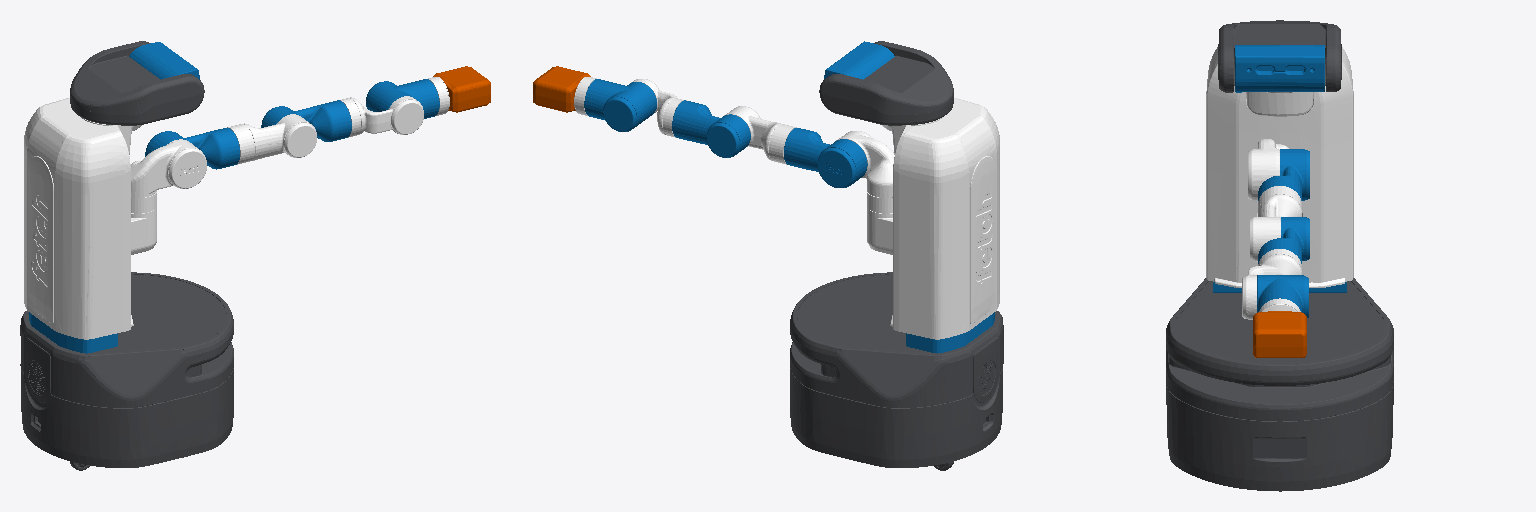
--- Render facts (derived) ---
3 views of the same robot in one strip: view 1: azimuth 30°, elevation 25°; view 2: azimuth 150°, elevation 25°; view 3: azimuth 270°, elevation 25° (orthographic).
Model fetch with 26 links and 25 joints (6 revolute, 5 continuous, 4 prismatic, 10 fixed), rooted at base_link, posed every joint at zero.
Links seen in each view (by area): view 1: base_link, torso_lift_link, head_pan_link, shoulder_pan_link, upperarm_roll_link, forearm_roll_link, elbow_flex_link, shoulder_lift_link, gripper_link, wrist_flex_link, head_tilt_link, torso_fixed_link; view 2: base_link, torso_lift_link, head_pan_link, shoulder_lift_link, elbow_flex_link, wrist_flex_link, shoulder_pan_link, gripper_link, upperarm_roll_link, head_tilt_link, torso_fixed_link, forearm_roll_link; view 3: base_link, torso_lift_link, head_pan_link, head_tilt_link, gripper_link, upperarm_roll_link, forearm_roll_link, shoulder_lift_link, wrist_flex_link, shoulder_pan_link, elbow_flex_link.
Link boxes in pixels (x1,y1,x2,y2): base_link: (20,272,233,470); torso_lift_link: (24,98,156,339); head_pan_link: (70,41,204,125); shoulder_pan_link: (131,139,206,213); upperarm_roll_link: (227,114,316,164); forearm_roll_link: (340,96,423,137); elbow_flex_link: (261,100,351,141); shoulder_lift_link: (145,128,239,169); gripper_link: (433,66,490,112); wrist_flex_link: (366,79,439,118); head_tilt_link: (129,42,199,79); torso_fixed_link: (29,312,117,353); base_link: (790,272,1003,470); torso_lift_link: (867,98,999,339); head_pan_link: (819,41,953,125); shoulder_lift_link: (784,128,867,187); elbow_flex_link: (672,100,750,157); wrist_flex_link: (584,79,656,131); shoulder_pan_link: (836,131,894,213); gripper_link: (533,66,590,112); upperarm_roll_link: (724,106,796,164); head_tilt_link: (824,41,894,79); torso_fixed_link: (906,312,994,353); forearm_roll_link: (631,79,686,137); base_link: (1166,278,1393,491); torso_lift_link: (1206,47,1353,287); head_pan_link: (1218,20,1341,92); head_tilt_link: (1235,45,1324,92); gripper_link: (1253,311,1306,357); upperarm_roll_link: (1250,186,1301,261); forearm_roll_link: (1242,249,1301,319); shoulder_lift_link: (1258,149,1309,200); wrist_flex_link: (1257,275,1308,317); shoulder_pan_link: (1248,139,1288,200); elbow_flex_link: (1258,217,1309,263).
Size in the robot's own frame: 1.38 by 0.5283 by 1.09 metres.
13 mesh visuals loaded from 20 distinct referenced files (13 OBJ); not drawn: 8 (reference not matched to a file when rendering).

The robot description file, URDF, robot "fetch":
<robot name="fetch">
    <link name="base_link">
        <inertial>
            <origin rpy="0 0 0" xyz="-0.0036 0.0 0.0014"/>
            <mass value="70.1294"/>
            <inertia ixx="1.225" ixy="0.0099" ixz="0.0062" iyy="1.2853" iyz="-0.0034" izz="0.987"/>
        </inertial>
        <visual>
            <origin rpy="0 0 0" xyz="0 0 0"/>
            <geometry>
                <mesh filename="package://fetch_description/meshes/base_link.obj"/>
            </geometry>
            <material name="">
                <color rgba="0.356 0.361 0.376 1"/>
            </material>
        </visual>
        <collision>
            <origin rpy="0 0 0" xyz="0 0 0"/>
            <geometry>
                <mesh filename="package://fetch_description/meshes/base_link_collision.STL"/>
            </geometry>
        </collision>
    </link>
    <link name="r_wheel_link">
        <inertial>
            <origin rpy="0 0 0" xyz="0 0 0"/>
            <mass value="4.3542"/>
            <inertia ixx="0.0045" ixy="0" ixz="0" iyy="0.005" iyz="0" izz="0.0045"/>
        </inertial>
        <visual>
            <origin rpy="0 0 0" xyz="0 0 0"/>
            <geometry>
                <mesh filename="package://fetch_description/meshes/r_wheel_link.STL"/>
            </geometry>
            <material name="">
                <color rgba="0.086 0.506 0.767 1"/>
            </material>
        </visual>
        <collision>
            <origin rpy="0 0 0" xyz="0 0 0"/>
            <geometry>
                <mesh filename="package://fetch_description/meshes/r_wheel_link_collision.STL"/>
            </geometry>
        </collision>
    </link>
    <joint name="r_wheel_joint" type="continuous">
        <origin rpy="-6.123E-17 0 0" xyz="0.0012914 -0.18738 0.055325"/>
        <parent link="base_link"/>
        <child link="r_wheel_link"/>
        <axis xyz="0 1 0"/>
        <limit effort="8.85" velocity="17.4"/>
    </joint>
    <link name="l_wheel_link">
        <inertial>
            <origin rpy="0 0 0" xyz="0 0 0"/>
            <mass value="4.3542"/>
            <inertia ixx="0.0045" ixy="0" ixz="0" iyy="0.005" iyz="0" izz="0.0045"/>
        </inertial>
        <visual>
            <origin rpy="0 0 0" xyz="0 0 0"/>
            <geometry>
                <mesh filename="package://fetch_description/meshes/l_wheel_link.STL"/>
            </geometry>
            <material name="">
                <color rgba="0.086 0.506 0.767 1"/>
            </material>
        </visual>
        <collision>
            <origin rpy="0 0 0" xyz="0 0 0"/>
            <geometry>
                <mesh filename="package://fetch_description/meshes/l_wheel_link_collision.STL"/>
            </geometry>
        </collision>
    </link>
    <joint name="l_wheel_joint" type="continuous">
        <origin rpy="-6.123E-17 0 0" xyz="0.0012914 0.18738 0.055325"/>
        <parent link="base_link"/>
        <child link="l_wheel_link"/>
        <axis xyz="0 1 0"/>
        <limit effort="8.85" velocity="17.4"/>
    </joint>
    <link name="torso_lift_link">
        <inertial>
            <origin rpy="0 0 0" xyz="-0.0013 -0.0009 0.2935"/>
            <mass value="10.7796"/>
            <inertia ixx="0.3354" ixy="0.0" ixz="-0.0162" iyy="0.3354" iyz="-0.0006" izz="0.0954"/>
        </inertial>
        <visual>
            <origin rpy="0 0 0" xyz="0 0 0"/>
            <geometry>
                <mesh filename="package://fetch_description/meshes/torso_lift_link.obj"/>
            </geometry>
            <material name="">
                <color rgba="1 1 1 1"/>
            </material>
        </visual>
        <collision>
            <origin rpy="0 0 0" xyz="0 0 0"/>
            <geometry>
                <mesh filename="package://fetch_description/meshes/torso_lift_link_collision.STL"/>
            </geometry>
        </collision>
    </link>
    <joint name="torso_lift_joint" type="prismatic">
        <origin rpy="-6.123E-17 0 0" xyz="-0.086875 0 0.37743"/>
        <parent link="base_link"/>
        <child link="torso_lift_link"/>
        <axis xyz="0 0 1"/>
        <limit effort="450.0" lower="0" upper="0.38615" velocity="0.1"/>
        <dynamics friction="1000" damping="100.0"/>
    </joint>
    <link name="head_pan_link">
        <inertial>
            <origin rpy="0 0 0" xyz="0.0321 0.0161 0.0390"/>
            <mass value="2.2556"/>
            <inertia ixx="0.0129" ixy="0.0002" ixz="0.0007" iyy="0.0095" iyz="-0.0" izz="0.0184"/>
        </inertial>
        <visual>
            <origin rpy="0 0 0" xyz="0 0 0"/>
            <geometry>
                <mesh filename="package://fetch_description/meshes/head_pan_link.obj"/>
            </geometry>
            <material name="">
                <color rgba="0.356 0.361 0.376 1"/>
            </material>
        </visual>
        <collision>
            <origin rpy="0 0 0" xyz="0 0 0"/>
            <geometry>
                <mesh filename="package://fetch_description/meshes/head_pan_link_collision.STL"/>
            </geometry>
        </collision>
    </link>
    <joint name="head_pan_joint" type="revolute">
        <origin rpy="0 0 0" xyz="0.053125 0 0.603001417713939"/>
        <parent link="torso_lift_link"/>
        <child link="head_pan_link"/>
        <axis xyz="0 0 1"/>
        <limit effort="0.32" lower="-1.57" upper="1.57" velocity="1.57"/>
    </joint>
    <link name="head_tilt_link">
        <inertial>
            <origin rpy="0 0 0" xyz="0.0081 0.0025 0.0113"/>
            <mass value="0.9087"/>
            <inertia ixx="0.0061" ixy="-0.0" ixz="0.0002" iyy="0.0014" iyz="-0.0001" izz="0.0061"/>
        </inertial>
        <visual>
            <origin rpy="0 0 0" xyz="0 0 0"/>
            <geometry>
                <mesh filename="package://fetch_description/meshes/head_tilt_link.obj"/>
            </geometry>
            <material name="">
                <color rgba="0.086 0.506 0.767 1"/>
            </material>
        </visual>
        <collision>
            <origin rpy="0 0 0" xyz="0 0 0"/>
            <geometry>
                <mesh filename="package://fetch_description/meshes/head_tilt_link_collision.STL"/>
            </geometry>
        </collision>
    </link>
    <joint name="head_tilt_joint" type="revolute">
        <origin rpy="0 0 0" xyz="0.14253 0 0.057999"/>
        <parent link="head_pan_link"/>
        <child link="head_tilt_link"/>
        <axis xyz="0 1 0"/>
        <limit effort="0.68" lower="-0.76" upper="1.45" velocity="1.57"/>
    </joint>
    <link name="shoulder_pan_link">
        <inertial>
            <origin rpy="0 0 0" xyz="0.0927 -0.0056 0.0564"/>
            <mass value="2.5587"/>
            <inertia ixx="0.0043" ixy="-0.0001" ixz="0.001" iyy="0.0087" iyz="-0.0001" izz="0.0087"/>
        </inertial>
        <visual>
            <origin rpy="0 0 0" xyz="0 0 0"/>
            <geometry>
                <mesh filename="package://fetch_description/meshes/shoulder_pan_link.obj"/>
            </geometry>
            <material name="">
                <color rgba="1 1 1 1"/>
            </material>
        </visual>
        <collision>
            <origin rpy="0 0 0" xyz="0 0 0"/>
            <geometry>
                <mesh filename="package://fetch_description/meshes/shoulder_pan_link_collision.STL"/>
            </geometry>
        </collision>
    </link>
    <joint name="shoulder_pan_joint" type="revolute">
        <origin rpy="0 0 0" xyz="0.119525 0 0.34858"/>
        <parent link="torso_lift_link"/>
        <child link="shoulder_pan_link"/>
        <axis xyz="0 0 1"/>
        <dynamics friction="1000" damping="1.0"/>
        <limit effort="33.82" lower="-1.6056" upper="1.6056" velocity="1.256"/>
    </joint>
    <link name="shoulder_lift_link">
        <inertial>
            <origin rpy="0 0 0" xyz="0.1432 0.0072 -0.0001"/>
            <mass value="2.6615"/>
            <inertia ixx="0.0028" ixy="-0.0021" ixz="-0.0" iyy="0.0111" iyz="-0.0" izz="0.0112"/>
        </inertial>
        <visual>
            <origin rpy="0 0 0" xyz="0 0 0"/>
            <geometry>
                <mesh filename="package://fetch_description/meshes/shoulder_lift_link.obj"/>
            </geometry>
            <material name="">
                <color rgba="0.086 0.506 0.767 1"/>
            </material>
        </visual>
        <collision>
            <origin rpy="0 0 0" xyz="0 0 0"/>
            <geometry>
                <mesh filename="package://fetch_description/meshes/shoulder_lift_link_collision.STL"/>
            </geometry>
        </collision>
    </link>
    <joint name="shoulder_lift_joint" type="revolute">
        <origin rpy="0 0 0" xyz="0.117 0 0.0599999999999999"/>
        <parent link="shoulder_pan_link"/>
        <child link="shoulder_lift_link"/>
        <axis xyz="0 1 0"/>
        <dynamics friction="1000" damping="1.0"/>
        <limit effort="131.76" lower="-1.221" upper="1.518" velocity="1.454"/>
    </joint>
    <link name="upperarm_roll_link">
        <inertial>
            <origin rpy="0 0 0" xyz="0.1165 0.0014 0.0000"/>
            <mass value="2.3311"/>
            <inertia ixx="0.0019" ixy="-0.0001" ixz="0.0" iyy="0.0045" iyz="0.0" izz="0.0047"/>
        </inertial>
        <visual>
            <origin rpy="0 0 0" xyz="0 0 0"/>
            <geometry>
                <mesh filename="package://fetch_description/meshes/upperarm_roll_link.obj"/>
            </geometry>
            <material name="">
                <color rgba="1 1 1 1"/>
            </material>
        </visual>
        <collision>
            <origin rpy="0 0 0" xyz="0 0 0"/>
            <geometry>
                <mesh filename="package://fetch_description/meshes/upperarm_roll_link_collision.STL"/>
            </geometry>
        </collision>
    </link>
    <joint name="upperarm_roll_joint" type="continuous">
        <origin rpy="0 0 0" xyz="0.219 0 0"/>
        <parent link="shoulder_lift_link"/>
        <child link="upperarm_roll_link"/>
        <axis xyz="1 0 0"/>
        <dynamics friction="1000" damping="5.0"/>
        <limit effort="76.94" velocity="1.571"/>
    </joint>
    <link name="elbow_flex_link">
        <inertial>
            <origin rpy="0 0 0" xyz="0.1279 0.0073 0.0000"/>
            <mass value="2.1299"/>
            <inertia ixx="0.0024" ixy="-0.0016" ixz="0.0" iyy="0.0082" iyz="-0.0" izz="0.0084"/>
        </inertial>
        <visual>
            <origin rpy="0 0 0" xyz="0 0 0"/>
            <geometry>
                <mesh filename="package://fetch_description/meshes/elbow_flex_link.obj"/>
            </geometry>
            <material name="">
                <color rgba="0.086 0.506 0.767 1"/>
            </material>
        </visual>
        <collision>
            <origin rpy="0 0 0" xyz="0 0 0"/>
            <geometry>
                <mesh filename="package://fetch_description/meshes/elbow_flex_link_collision.STL"/>
            </geometry>
        </collision>
    </link>
    <joint name="elbow_flex_joint" type="revolute">
        <origin rpy="0 0 0" xyz="0.133 0 0"/>
        <parent link="upperarm_roll_link"/>
        <child link="elbow_flex_link"/>
        <axis xyz="0 1 0"/>
        <dynamics friction="1000" damping="1.0"/>
        <limit effort="66.18" lower="-2.251" upper="2.251" velocity="1.521"/>
    </joint>
    <link name="forearm_roll_link">
        <inertial>
            <origin rpy="0 0 0" xyz="0.1097 -0.0266 0.0000"/>
            <mass value="1.6563"/>
            <inertia ixx="0.0016" ixy="-0.0003" ixz="0.0" iyy="0.003" iyz="-0.0" izz="0.0035"/>
        </inertial>
        <visual>
            <origin rpy="0 0 0" xyz="0 0 0"/>
            <geometry>
                <mesh filename="package://fetch_description/meshes/forearm_roll_link.obj"/>
            </geometry>
            <material name="">
                <color rgba="1 1 1 1"/>
            </material>
        </visual>
        <collision>
            <origin rpy="0 0 0" xyz="0 0 0"/>
            <geometry>
                <mesh filename="package://fetch_description/meshes/forearm_roll_link_collision.STL"/>
            </geometry>
        </collision>
    </link>
    <joint name="forearm_roll_joint" type="continuous">
        <origin rpy="0 0 0" xyz="0.197 0 0"/>
        <parent link="elbow_flex_link"/>
        <child link="forearm_roll_link"/>
        <axis xyz="1 0 0"/>
        <dynamics friction="1000" damping="5.0"/>
        <limit effort="29.35" velocity="1.571"/>
    </joint>
    <link name="wrist_flex_link">
        <inertial>
            <origin rpy="0 0 0" xyz="0.0882 0.0009 -0.0001"/>
            <mass value="1.725"/>
            <inertia ixx="0.0018" ixy="-0.0001" ixz="-0.0" iyy="0.0042" iyz="0.0" izz="0.0042"/>
        </inertial>
        <visual>
            <origin rpy="0 0 0" xyz="0 0 0"/>
            <geometry>
                <mesh filename="package://fetch_description/meshes/wrist_flex_link.obj"/>
            </geometry>
            <material name="">
                <color rgba="0.086 0.506 0.767 1"/>
            </material>
        </visual>
        <collision>
            <origin rpy="0 0 0" xyz="0 0 0"/>
            <geometry>
                <mesh filename="package://fetch_description/meshes/wrist_flex_link_collision.STL"/>
            </geometry>
        </collision>
    </link>
    <joint name="wrist_flex_joint" type="revolute">
        <origin rpy="0 0 0" xyz="0.1245 0 0"/>
        <parent link="forearm_roll_link"/>
        <child link="wrist_flex_link"/>
        <axis xyz="0 1 0"/>
        <dynamics friction="1000" damping="1.0"/>
        <limit effort="25.7" lower="-2.16" upper="2.16" velocity="2.268"/>
    </joint>
    <link name="wrist_roll_link">
        <inertial>
            <origin rpy="0 0 0" xyz="0.0095 0.0004 -0.0002"/>
            <mass value="0.1354"/>
            <inertia ixx="0.0001" ixy="0.0" ixz="0.0" iyy="0.0001" iyz="0.0" izz="0.0001"/>
        </inertial>
        <visual>
            <origin rpy="0 0 0" xyz="0 0 0"/>
            <geometry>
                <mesh filename="package://fetch_description/meshes/wrist_roll_link.obj"/>
            </geometry>
            <material name="">
                <color rgba="1 1 1 1"/>
            </material>
        </visual>
        <collision>
            <origin rpy="0 0 0" xyz="0 0 0"/>
            <geometry>
                <mesh filename="package://fetch_description/meshes/wrist_roll_link_collision.STL"/>
            </geometry>
        </collision>
    </link>
    <joint name="wrist_roll_joint" type="continuous">
        <origin rpy="0 0 0" xyz="0.1385 0 0"/>
        <parent link="wrist_flex_link"/>
        <child link="wrist_roll_link"/>
        <axis xyz="1 0 0"/>
        <limit effort="7.36" velocity="2.268"/>
        <dynamics friction="1000" damping="5.0"/>
    </joint>
    <link name="gripper_link">
        <inertial>
            <origin rpy="0 0 0" xyz="-0.0900 -0.0001 -0.0017"/>
            <mass value="1.5175"/>
            <inertia ixx="0.0013" ixy="-0.0" ixz="0.0" iyy="0.0019" iyz="-0.0" izz="0.0024"/>
        </inertial>
        <visual>
            <origin rpy="0 0 0" xyz="0 0 0"/>
            <geometry>
                <mesh filename="package://fetch_description/meshes/gripper_link.obj"/>
            </geometry>
        </visual>
        <collision>
            <origin rpy="0 0 0" xyz="0 0 0"/>
            <geometry>
                <mesh filename="package://fetch_description/meshes/gripper_link.STL"/>
            </geometry>
        </collision>
    </link>
    <joint name="gripper_axis" type="fixed">
        <origin rpy="0 0 0" xyz="0.16645 0 0"/>
        <parent link="wrist_roll_link"/>
        <child link="gripper_link"/>
        <axis xyz="0 1 0"/>
    </joint>
    <link name="r_gripper_finger_link">
        <inertial>
            <origin rpy="0 0 0" xyz="-0.01 0 0"/>
            <mass value="0.0798"/>
            <inertia ixx="0.002" ixy="0" ixz="0" iyy="0" iyz="0" izz="0"/>
        </inertial>
        <visual>
            <origin rpy="0 0 0" xyz="0 0.101425 0"/>
            <geometry>
                <mesh filename="package://fetch_description/meshes/r_gripper_finger_link.STL"/>
            </geometry>
            <material name="">
                <color rgba="0.356 0.361 0.376 1"/>
            </material>
        </visual>
        <collision>
            <origin rpy="0 0 0" xyz="0 0.101425 0"/>
            <geometry>
                <mesh filename="package://fetch_description/meshes/r_gripper_finger_link.STL"/>
            </geometry>
        </collision>
    </link>
    <joint name="r_gripper_finger_joint" type="prismatic">
        <origin rpy="0 0 0" xyz="0 0.015425 0"/>
        <parent link="gripper_link"/>
        <child link="r_gripper_finger_link"/>
        <axis xyz="0 1 0"/>
        <limit effort="60" lower="0.0" upper="0.05" velocity="0.05"/>
        <dynamics friction="1000" damping="100.0"/>
    </joint>
    <link name="l_gripper_finger_link">
        <inertial>
            <origin rpy="0 0 0" xyz="-0.01 0 0"/>
            <mass value="0.0798"/>
            <inertia ixx="0.002" ixy="0" ixz="0" iyy="0" iyz="0" izz="0"/>
        </inertial>
        <visual>
            <origin rpy="0 0 0" xyz="0 -0.101425 0"/>
            <geometry>
                <mesh filename="package://fetch_description/meshes/l_gripper_finger_link.STL"/>
            </geometry>
            <material name="">
                <color rgba="0.356 0.361 0.376 1"/>
            </material>
        </visual>
        <collision>
            <origin rpy="0 0 0" xyz="0 -0.101425 0"/>
            <geometry>
                <mesh filename="package://fetch_description/meshes/l_gripper_finger_link.STL"/>
            </geometry>
        </collision>
    </link>
    <joint name="l_gripper_finger_joint" type="prismatic">
        <origin rpy="0 0 0" xyz="0 -0.015425 0"/>
        <parent link="gripper_link"/>
        <child link="l_gripper_finger_link"/>
        <axis xyz="0 -1 0"/>
        <limit effort="60" lower="0.0" upper="0.05" velocity="0.05"/>
        <dynamics friction="1000" damping="100.0"/>
    </joint>
    <link name="bellows_link">
        <inertial>
            <origin rpy="0 0 0" xyz="0.0191320000286228 -1.67219873481315E-16 -0.134861625443387"/>
            <mass value="0.169374038216602"/>
            <inertia ixx="0.00331159128762117" ixy="-8.9230964321455E-18" ixz="-5.38622201018293E-08"
                     iyy="0.00174447292786627" iyz="-8.06964979976371E-17" izz="0.00169417568121457"/>
        </inertial>
        <visual>
            <origin rpy="0 0 0" xyz="0 0 0"/>
            <geometry>
                <mesh filename="package://fetch_description/meshes/bellows_link.STL"/>
            </geometry>
            <material name="">
                <color rgba="0 0 0 1"/>
            </material>
        </visual>
        <collision>
            <origin rpy="0 0 0" xyz="0 0 0"/>
            <geometry>
                <mesh filename="package://fetch_description/meshes/bellows_link_collision.STL"/>
            </geometry>
        </collision>
    </link>
    <joint name="bellows_joint" type="prismatic">
        <origin rpy="0 0 0" xyz="0 0 0"/>
        <parent link="torso_lift_link"/>
        <child link="bellows_link"/>
        <axis xyz="0 0 -1"/>
        <limit effort="5.0" lower="0" upper="0.4" velocity="0.1"/>
    </joint>
    <link name="bellows_link2">
        <inertial>
            <origin rpy="0 0 0" xyz="0.0191320000286228 -1.67219873481315E-16 -0.134861625443387"/>
            <mass value="0.169374038216602"/>
            <inertia ixx="0.00331159128762117" ixy="-8.9230964321455E-18" ixz="-5.38622201018293E-08"
                     iyy="0.00174447292786627" iyz="-8.06964979976371E-17" izz="0.00169417568121457"/>
        </inertial>
        <visual>
            <origin rpy="0 0 0" xyz="0 0 0"/>
            <geometry>
                <mesh filename="package://fetch_description/meshes/bellows_link.STL"/>
            </geometry>
            <material name="">
                <color rgba="0 0 0 1"/>
            </material>
        </visual>
        <collision>
            <origin rpy="0 0 0" xyz="0 0 0"/>
            <geometry>
                <mesh filename="package://fetch_description/meshes/bellows_link_collision.STL"/>
            </geometry>
        </collision>
    </link>
    <joint name="bellows_joint2" type="fixed">
        <origin rpy="0 0 0" xyz="0 0 0"/>
        <parent link="torso_lift_link"/>
        <child link="bellows_link2"/>
    </joint>
    <link name="estop_link">
        <inertial>
            <origin rpy="0 0 0" xyz="0.002434512737072 -0.00330608315239905 0.00665139196650039"/>
            <mass value="0.00196130439134723"/>
            <inertia ixx="3.02810026604417E-07" ixy="-1.5862023118056E-08" ixz="3.16561396557437E-08"
                     iyy="2.93322917127605E-07" iyz="-4.28833522751273E-08" izz="2.28513272627183E-07"/>
        </inertial>
        <visual>
            <origin rpy="0 0 0" xyz="0 0 0"/>
            <geometry>
                <mesh filename="package://fetch_description/meshes/estop_link.STL"/>
            </geometry>
            <material name="">
                <color rgba="0.8 0 0 1"/>
            </material>
        </visual>
        <collision>
            <origin rpy="0 0 0" xyz="0 0 0"/>
            <geometry>
                <mesh filename="package://fetch_description/meshes/estop_link.STL"/>
            </geometry>
        </collision>
    </link>
    <joint name="estop_joint" type="fixed">
        <origin rpy="1.5708 0 0" xyz="-0.12465 0.23892 0.31127"/>
        <parent link="base_link"/>
        <child link="estop_link"/>
        <axis xyz="0 0 0"/>
    </joint>
    <link name="laser_link">
        <inertial>
            <origin rpy="0 0 0" xyz="-0.0306228970175641 0.0007091682908278 0.0551974119471302"/>
            <mass value="0.00833634573995571"/>
            <inertia ixx="1.01866461240801E-06" ixy="-5.88447626567756E-08" ixz="7.83857244757914E-08"
                     iyy="5.10039589974707E-07" iyz="-7.12664289617235E-09" izz="1.28270671527309E-06"/>
        </inertial>
        <visual>
            <origin rpy="0 0 0" xyz="0 0 0"/>
            <geometry>
                <mesh filename="package://fetch_description/meshes/laser_link.STL"/>
            </geometry>
            <material name="">
                <color rgba="0.792156862745098 0.819607843137255 0.933333333333333 1"/>
            </material>
        </visual>
        <collision>
            <origin rpy="0 0 0" xyz="0 0 0"/>
            <geometry>
                <mesh filename="package://fetch_description/meshes/laser_link.STL"/>
            </geometry>
        </collision>
    </link>
    <joint name="laser_joint" type="fixed">
        <origin rpy="3.14159265359 0 0" xyz="0.235 0 0.2878"/>
        <parent link="base_link"/>
        <child link="laser_link"/>
        <axis xyz="0 0 0"/>
    </joint>
    <link name="torso_fixed_link">
        <inertial>
            <origin rpy="0 0 0" xyz="-0.0722 0.0057 0.2656"/>
            <mass value="13.2775"/>
            <inertia ixx="0.3861" ixy="0.0015" ixz="-0.0102" iyy="0.3388" iyz="0.0117" izz="0.1018"/>
        </inertial>
        <visual>
            <origin rpy="0 0 0" xyz="0 0 0"/>
            <geometry>
                <mesh filename="package://fetch_description/meshes/torso_fixed_link.obj"/>
            </geometry>
            <material name="">
                <color rgba="0.086 0.506 0.767 1"/>
            </material>
        </visual>
        <collision>
            <origin rpy="0 0 0" xyz="0 0 0"/>
            <geometry>
                <mesh filename="package://fetch_description/meshes/torso_fixed_link.STL"/>
            </geometry>
        </collision>
    </link>
    <joint name="torso_fixed_joint" type="fixed">
        <origin rpy="-6.12303176911189E-17 0 0" xyz="-0.086875 0 0.377425"/>
        <parent link="base_link"/>
        <child link="torso_fixed_link"/>
        <axis xyz="0 1 0"/>
    </joint>
    <link name="head_camera_link">
        <inertial>
            <origin rpy="0 0 0" xyz="0 0 0"/>
            <mass value="0"/>
            <inertia ixx="0.1" ixy="0.0" ixz="0.0" iyy="0.1" iyz="0.0" izz="0.1"/>
        </inertial>
    </link>
    <joint name="head_camera_joint" type="fixed">
        <origin rpy="0 0 0" xyz="0.055 0 0.0225"/>
        <parent link="head_tilt_link"/>
        <child link="head_camera_link"/>
    </joint>
    <link name="head_camera_rgb_frame">
        <inertial>
            <origin rpy="0 0 0" xyz="0 0 0"/>
            <mass value="0"/>
            <inertia ixx="0.1" ixy="0.0" ixz="0.0" iyy="0.1" iyz="0.0" izz="0.1"/>
        </inertial>
    </link>
    <joint name="head_camera_rgb_joint" type="fixed">
        <origin rpy="0 0 0" xyz="0 0.02 0"/>
        <parent link="head_camera_link"/>
        <child link="head_camera_rgb_frame"/>
    </joint>
    <link name="head_camera_rgb_optical_frame">
        <inertial>
            <origin rpy="0 0 0" xyz="0 0 0"/>
            <mass value="0"/>
            <inertia ixx="0.1" ixy="0.0" ixz="0.0" iyy="0.1" iyz="0.0" izz="0.1"/>
        </inertial>
    </link>
    <joint name="head_camera_rgb_optical_joint" type="fixed">
        <origin rpy="-1.57079632679 0 -1.57079632679" xyz="0 0 0"/>
        <parent link="head_camera_rgb_frame"/>
        <child link="head_camera_rgb_optical_frame"/>
    </joint>
    <link name="head_camera_depth_frame">
        <inertial>
            <origin rpy="0 0 0" xyz="0 0 0"/>
            <mass value="0"/>
            <inertia ixx="0.1" ixy="0.0" ixz="0.0" iyy="0.1" iyz="0.0" izz="0.1"/>
        </inertial>
    </link>
    <joint name="head_camera_depth_joint" type="fixed">
        <origin rpy="0 0 0" xyz="0 0.045 0"/>
        <parent link="head_camera_link"/>
        <child link="head_camera_depth_frame"/>
    </joint>
    <link name="head_camera_depth_optical_frame">
        <inertial>
            <origin rpy="0 0 0" xyz="0 0 0"/>
            <mass value="0"/>
            <inertia ixx="0.1" ixy="0.0" ixz="0.0" iyy="0.1" iyz="0.0" izz="0.1"/>
        </inertial>
    </link>
    <joint name="head_camera_depth_optical_joint" type="fixed">
        <origin rpy="-1.57079632679 0 -1.57079632679" xyz="0 0 0"/>
        <parent link="head_camera_depth_frame"/>
        <child link="head_camera_depth_optical_frame"/>
    </joint>
</robot>
